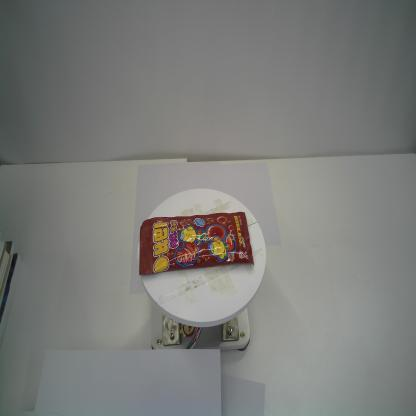Candy: (138, 209, 256, 277)
